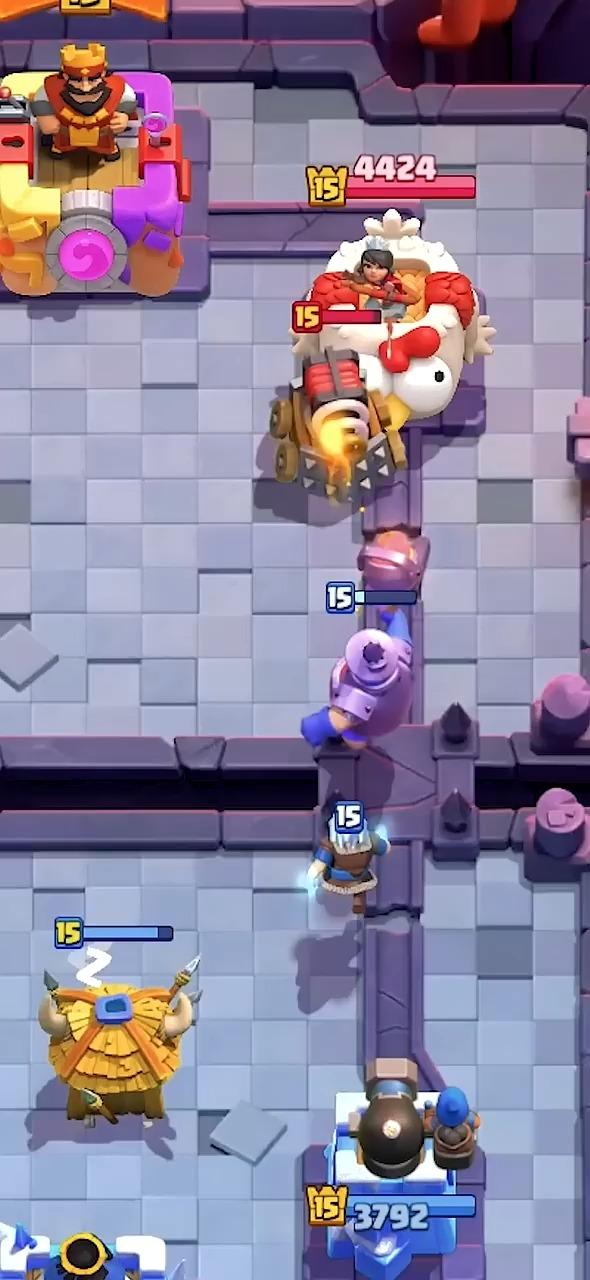furnace: (301, 529, 429, 749)
goblin hut: (38, 957, 200, 1126)
ice wizard: (308, 808, 390, 915)
sparky: (269, 347, 405, 501)
